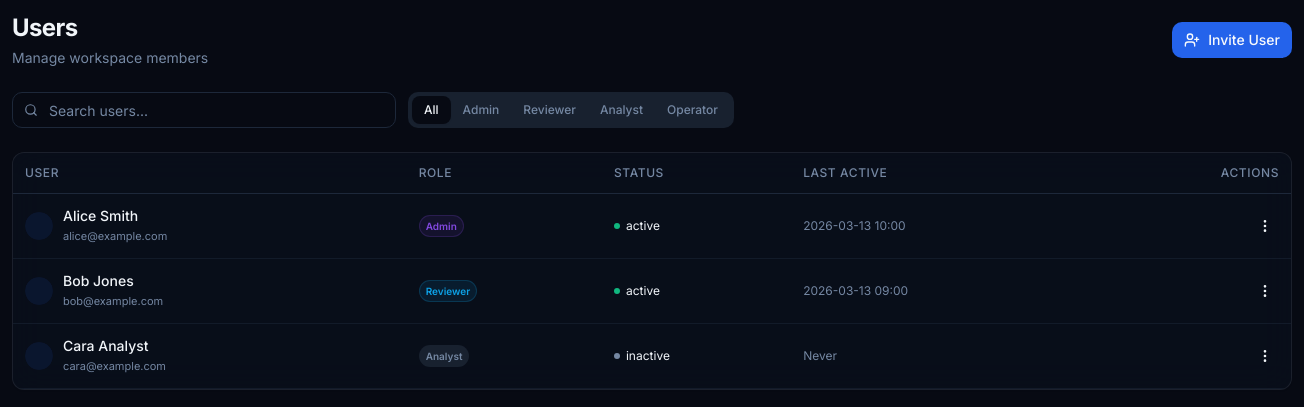
Scenario: UsersPage › filters users by search and canonical role tabs
Type "alice" into the field with placeholder "Search users..." at (204, 110), box 12,92 -> 396,128
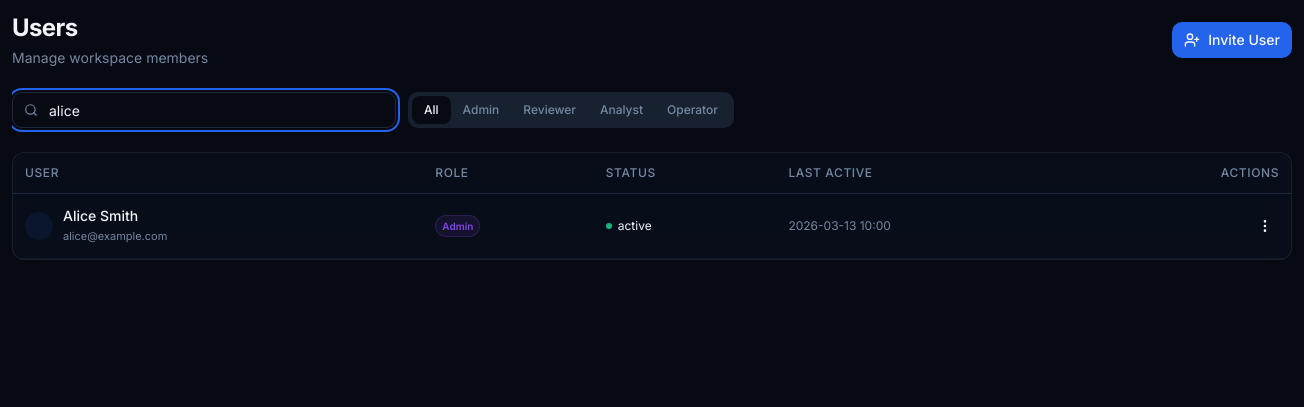
Check: the text "Alice Smith" is shown, box 63,207 -> 138,224
Check: the text "Bob Jones" is gone
Clear the field with placeholder "Search users..." at (204, 110), box 12,92 -> 396,128
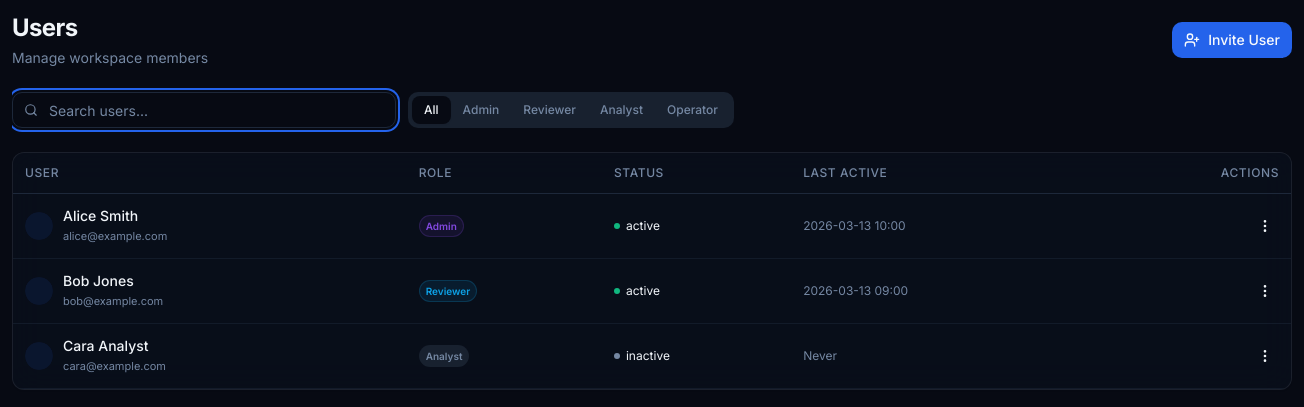
Click the tab "Analyst" at (622, 110), box 588,96 -> 655,124
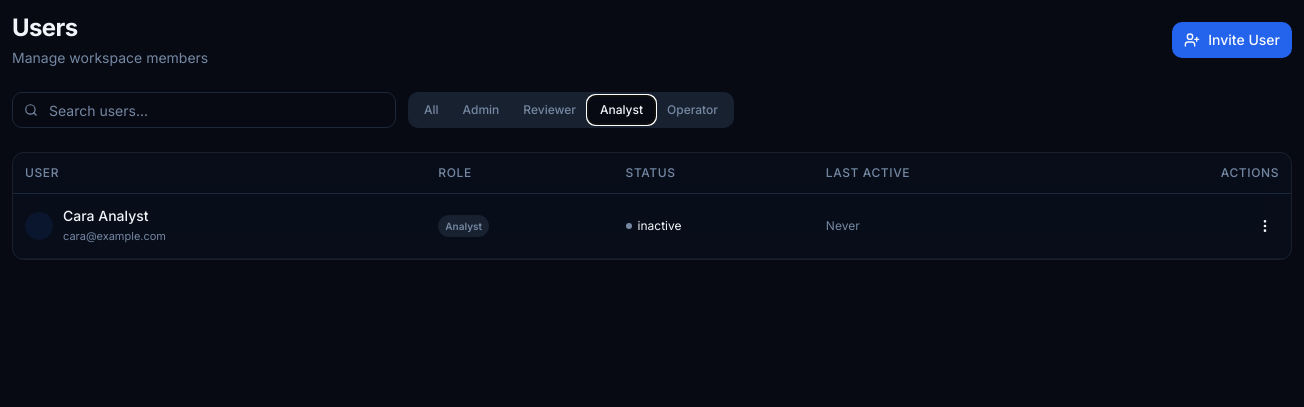
Check: the text "Cara Analyst" is shown, box 63,207 -> 148,224
Check: the text "Alice Smith" is gone
